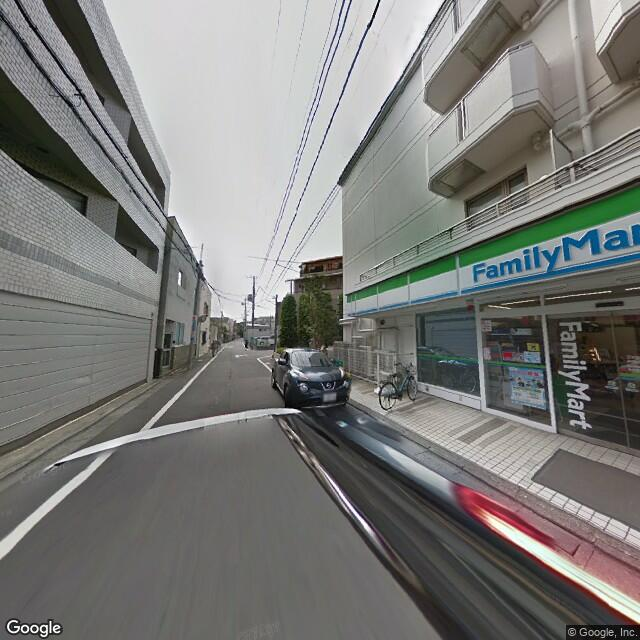family_mart: (347, 177, 639, 316), (553, 317, 592, 433)
